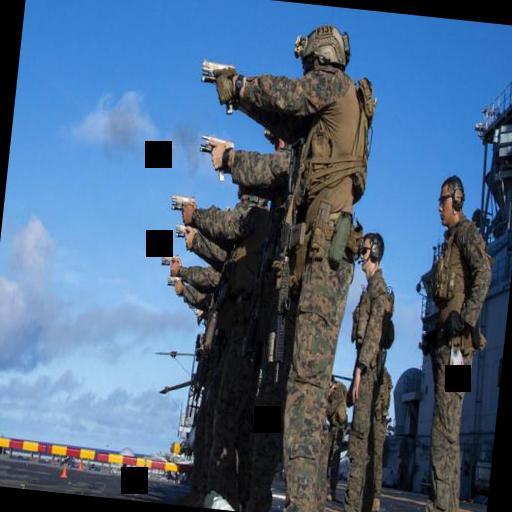Handgun: (194, 53, 240, 116), (194, 130, 238, 186), (168, 188, 196, 218), (158, 249, 179, 271), (173, 221, 191, 238), (165, 271, 180, 291)
